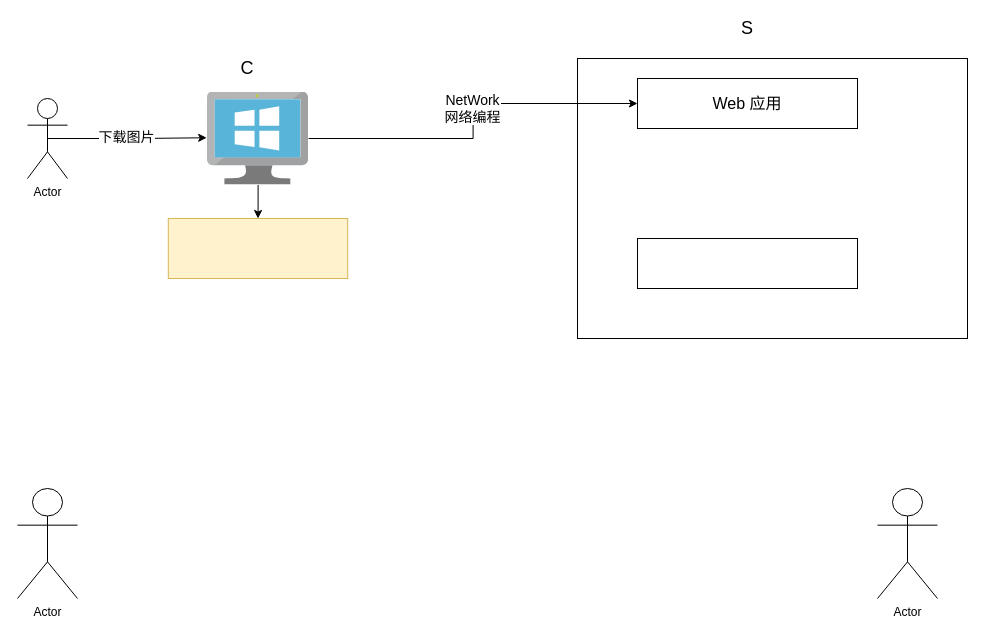
Image size: 985x636. Some labels were removed from this diagram. Each missing label, with the centre of its shape:
"File System" belongs at (x=747, y=263).
"让浏览器能够支持文件上传 input file" belongs at (x=257, y=248).
